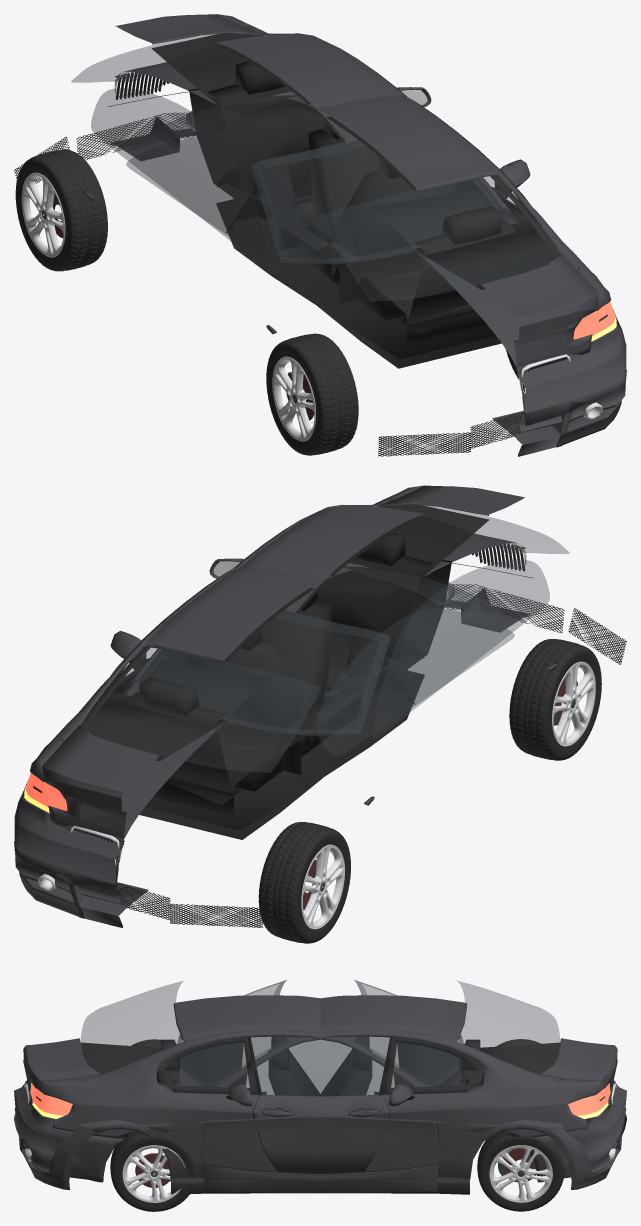
File: bmw.glb
3 renders of one model, top to bottom at view 1: azimuth 30°, elevation 25°; view 2: azimuth 150°, elevation 25°; view 3: azimuth 270°, elevation 25°, orthographic. The views are drawn at different scales.
Parts seen in each view (by area): view 1: Body, Wheel_RR, Wheel_FR; view 2: Body, Wheel_RR, Wheel_FR; view 3: Body, Wheel_FL, Wheel_RL.
Part boxes in pixels (<box>): Body: <box>14,14,626,456</box>; Wheel_RR: <box>266,333,358,455</box>; Wheel_FR: <box>15,149,107,271</box>; Body: <box>14,485,626,928</box>; Wheel_RR: <box>509,639,601,760</box>; Wheel_FR: <box>258,822,350,943</box>; Body: <box>14,980,626,1194</box>; Wheel_FL: <box>477,1132,564,1211</box>; Wheel_RL: <box>110,1132,194,1211</box>.
Size of the model in its own units: 1.87 by 1.38 by 4.52.
